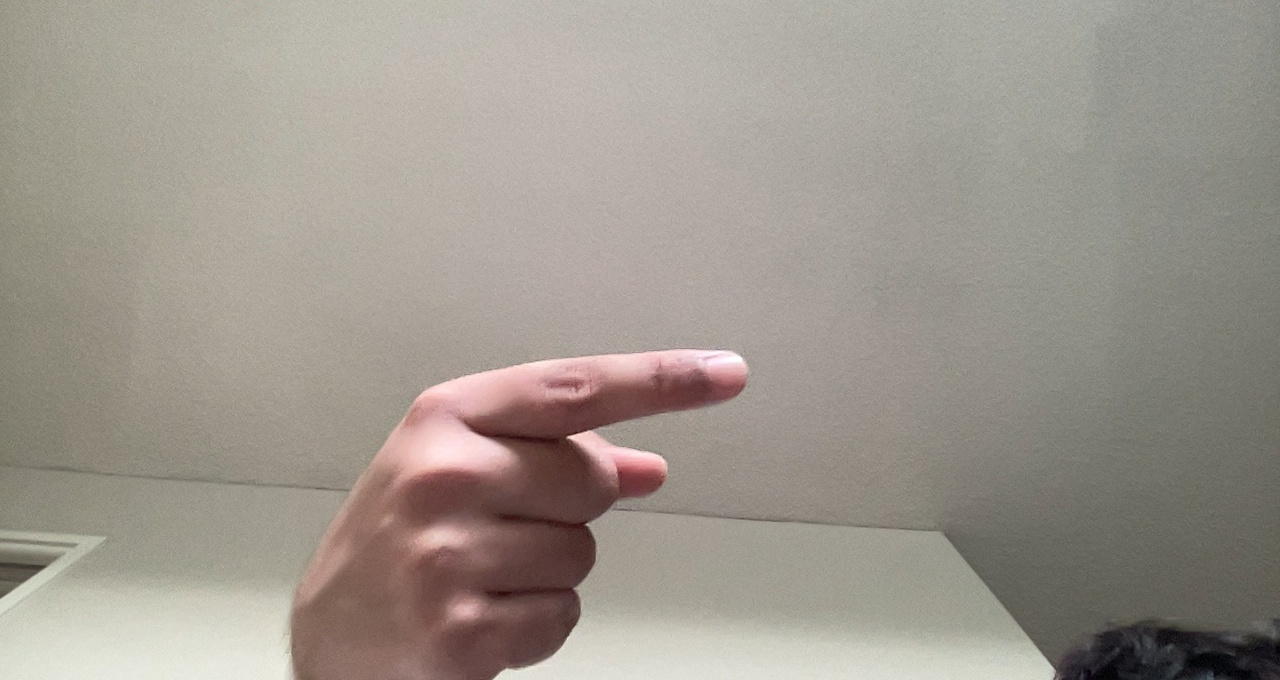fingerleft: (287, 334, 753, 662)
